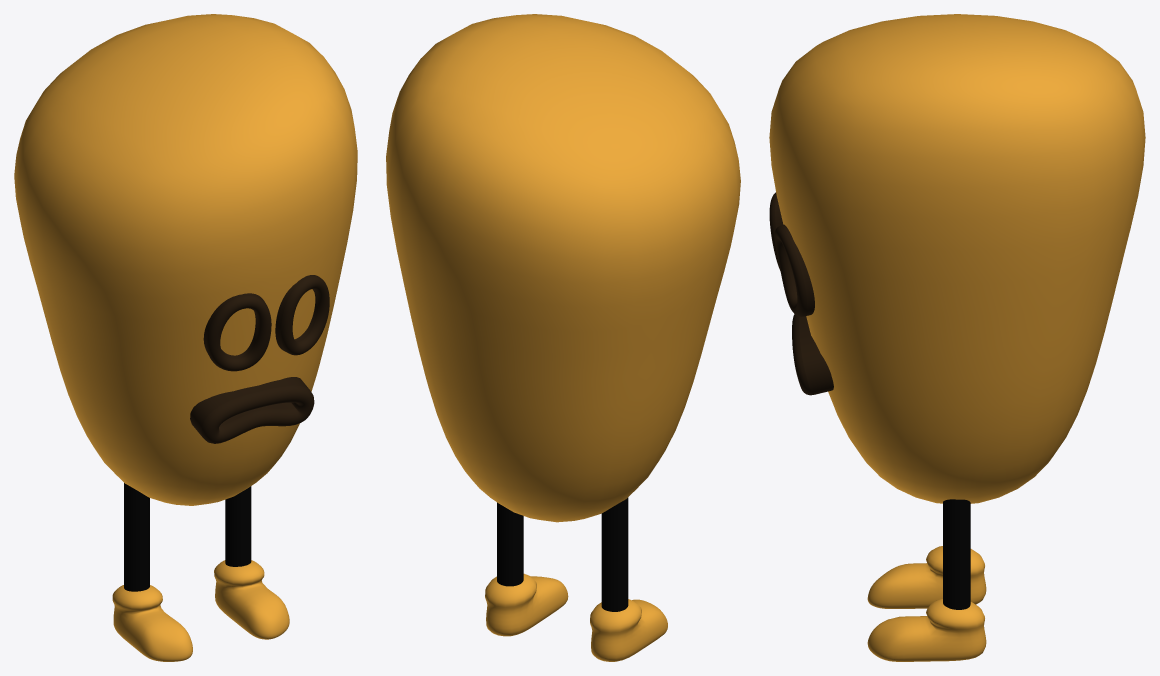
The model's file is smallPotato_B.fbx.
3 renders of one model, left to right at view 1: azimuth 30°, elevation 25°; view 2: azimuth 150°, elevation 25°; view 3: azimuth 270°, elevation 25°, orthographic. The views are drawn at different scales.
Parts seen in each view (by area): view 1: Potato_B, PotatoShoe_B, Mouth_B, PotatoLeg_B, EyeR_B, EyeL_B; view 2: Potato_B, PotatoShoe_B, PotatoLeg_B; view 3: Potato_B, PotatoShoe_B, PotatoLeg_B, EyeL_B, Mouth_B.
Boxes of the visible parts, box(x1,y1,x2,y2) form: Potato_B: box(14, 14, 357, 505); PotatoShoe_B: box(112, 560, 289, 661); Mouth_B: box(190, 377, 314, 443); PotatoLeg_B: box(124, 483, 251, 591); EyeR_B: box(203, 293, 271, 371); EyeL_B: box(275, 275, 329, 355); Potato_B: box(386, 14, 740, 522); PotatoShoe_B: box(485, 573, 667, 661); PotatoLeg_B: box(497, 497, 628, 611); Potato_B: box(769, 14, 1145, 503); PotatoShoe_B: box(867, 546, 986, 661); PotatoLeg_B: box(943, 499, 970, 609); EyeL_B: box(774, 224, 814, 316); Mouth_B: box(792, 314, 833, 395).
Bounding box in the file's own units: 66.23 × 127 × 70.38.
